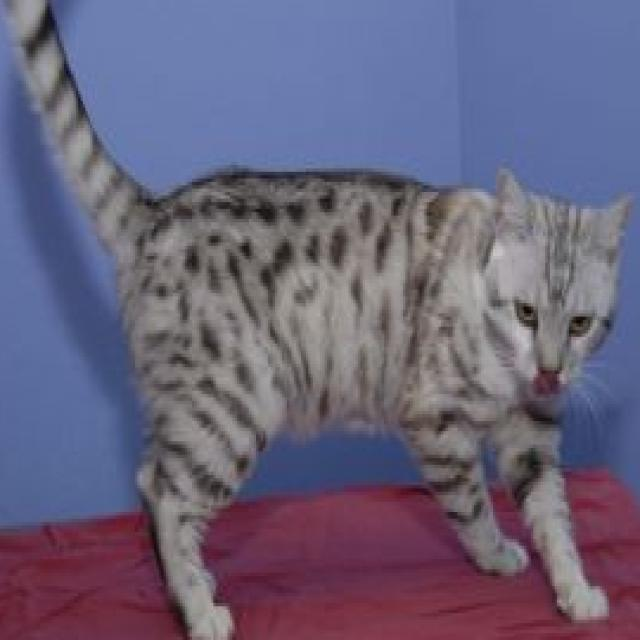Egyptian Mau: (0, 0, 635, 640)
